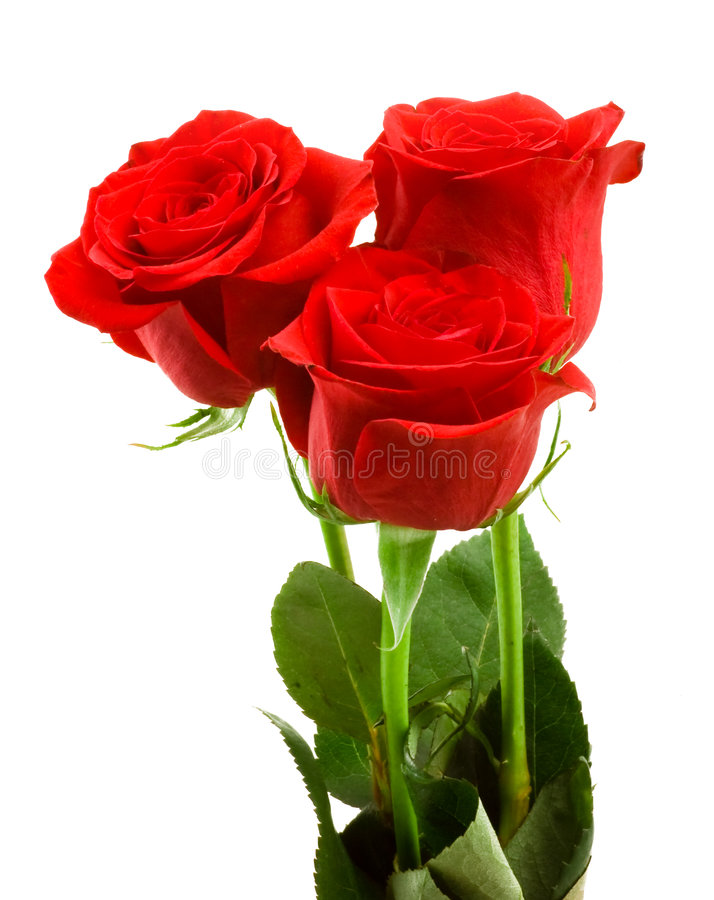RedRose: (69, 79, 318, 419), (283, 260, 558, 507), (385, 79, 626, 341)
